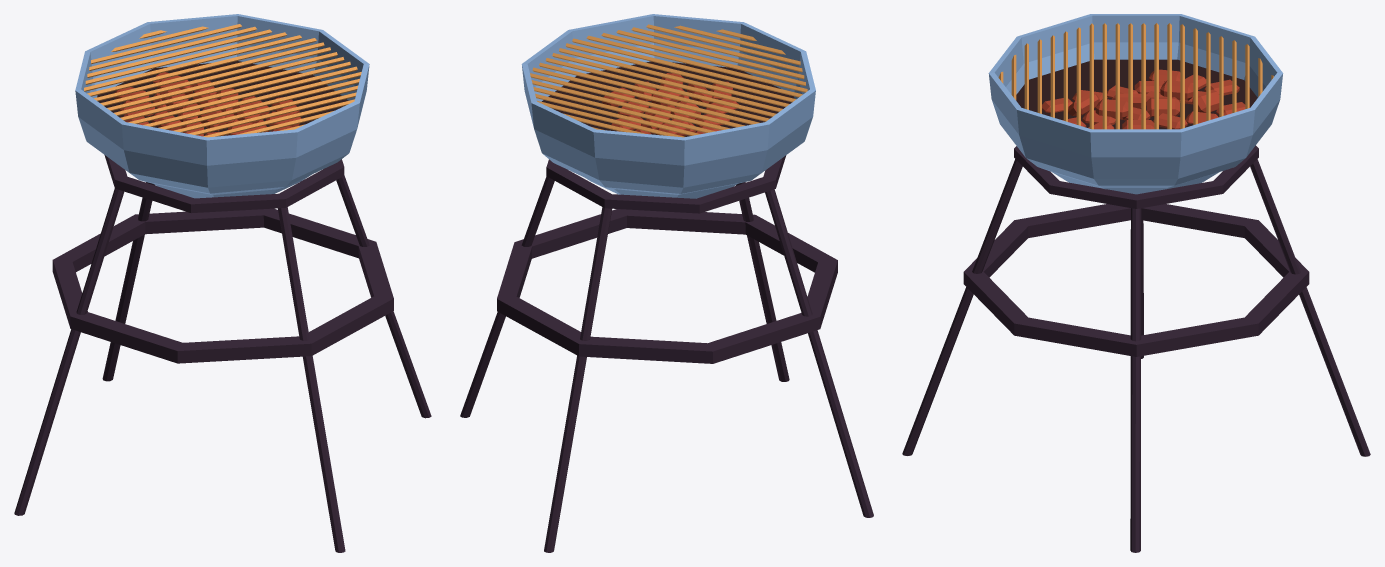
Rendered from CampingGrillLP.fbx.
3 renders of one model, left to right at view 1: azimuth 30°, elevation 25°; view 2: azimuth 150°, elevation 25°; view 3: azimuth 270°, elevation 25°, orthographic. The views are drawn at different scales.
Visible parts, largest first — view 1: Sphere.001, Rings.002, GrillGrate.001, Stand.001, Coal.001, Ash.001; view 2: Sphere.001, Rings.002, GrillGrate.001, Stand.001, Ash.001, Coal.001; view 3: Sphere.001, Rings.002, Stand.001, GrillGrate.001, Coal.001, Ash.001.
Boxes of the visible parts, box(x1,y1,x2,y2) form: Sphere.001: box(75, 14, 369, 198); Rings.002: box(52, 155, 393, 363); GrillGrate.001: box(84, 24, 361, 137); Stand.001: box(14, 175, 431, 552); Coal.001: box(114, 72, 301, 136); Ash.001: box(97, 61, 348, 135); Sphere.001: box(521, 14, 815, 198); Rings.002: box(497, 155, 837, 363); GrillGrate.001: box(530, 24, 807, 137); Stand.001: box(460, 176, 873, 552); Ash.001: box(542, 61, 794, 136); Coal.001: box(602, 73, 738, 136); Sphere.001: box(988, 14, 1283, 194); Rings.002: box(963, 145, 1309, 356); Stand.001: box(902, 159, 1370, 552); GrillGrate.001: box(998, 23, 1273, 129); Coal.001: box(1042, 69, 1245, 129); Ash.001: box(1016, 59, 1257, 129).
Size of the model in its own units: 694 by 622 by 694.
